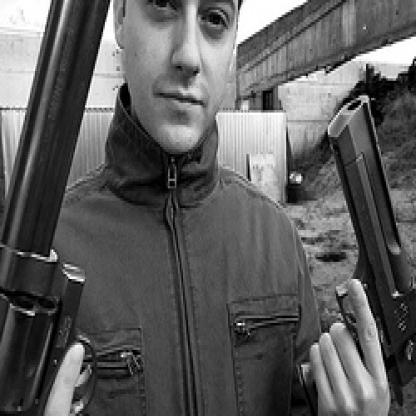gun: (0, 0, 137, 414), (306, 78, 414, 414)
